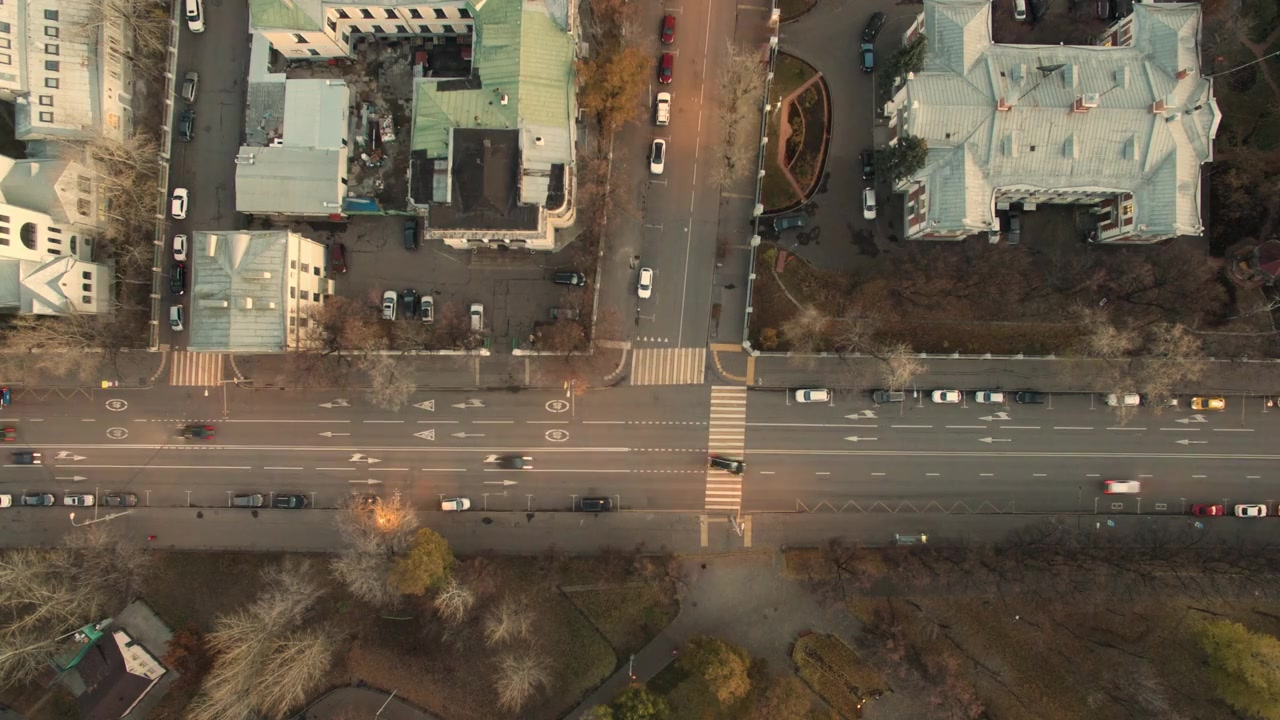car: (167, 184, 193, 222), (861, 9, 889, 42), (1104, 388, 1142, 412), (182, 1, 207, 37), (793, 385, 833, 407), (709, 453, 747, 476), (175, 107, 197, 146), (772, 210, 808, 233), (180, 69, 203, 104), (647, 138, 668, 176), (552, 268, 588, 290), (496, 452, 535, 472), (1101, 477, 1142, 496), (1193, 498, 1227, 520), (179, 423, 218, 442), (229, 491, 268, 510), (328, 242, 349, 277), (169, 232, 193, 262), (1190, 393, 1227, 412), (654, 89, 672, 128), (636, 266, 656, 301), (659, 12, 679, 47), (872, 387, 908, 406), (102, 491, 140, 509), (167, 261, 186, 297), (656, 51, 676, 85), (274, 492, 311, 510), (402, 218, 421, 253), (929, 387, 964, 406), (862, 184, 879, 223), (441, 495, 472, 516), (18, 491, 56, 508), (974, 388, 1007, 407), (380, 288, 398, 322), (1006, 212, 1023, 248), (578, 496, 614, 513), (63, 491, 97, 509), (858, 42, 877, 74), (1234, 502, 1269, 519), (12, 449, 43, 468), (168, 303, 187, 334), (419, 293, 436, 326), (468, 300, 484, 335), (401, 287, 417, 321), (1016, 388, 1045, 406), (1010, 1, 1031, 25)
